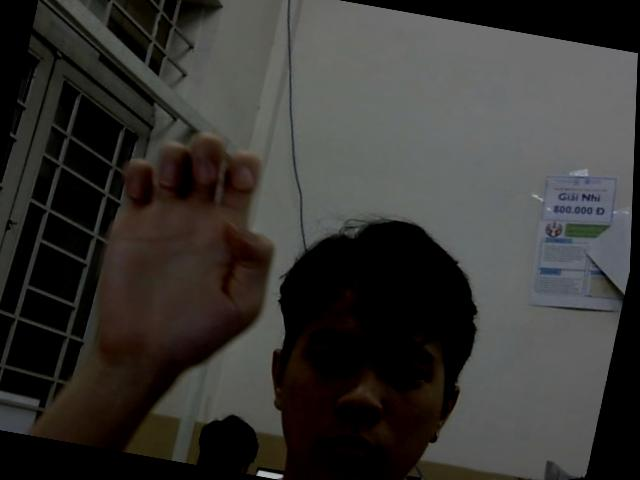E: (80, 117, 300, 380)
